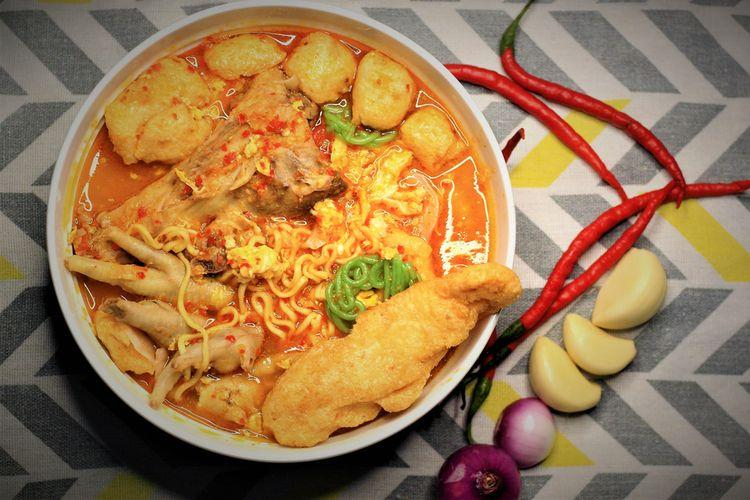seblak: (65, 28, 489, 448)
